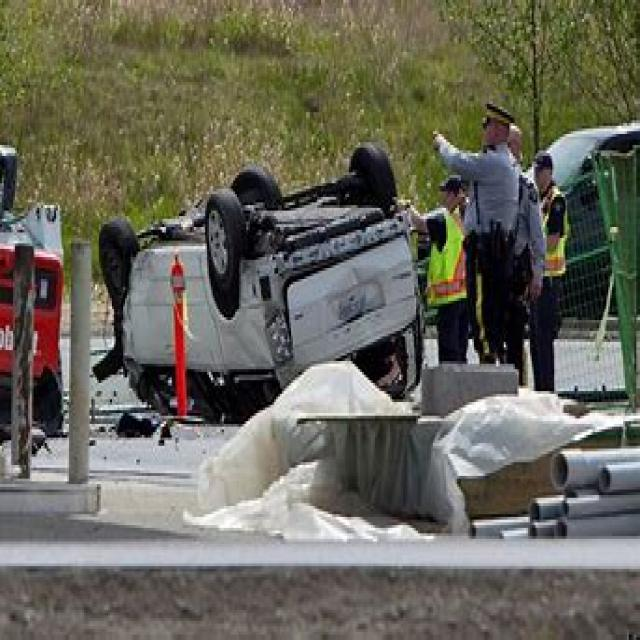Accident: (115, 99, 459, 385)
